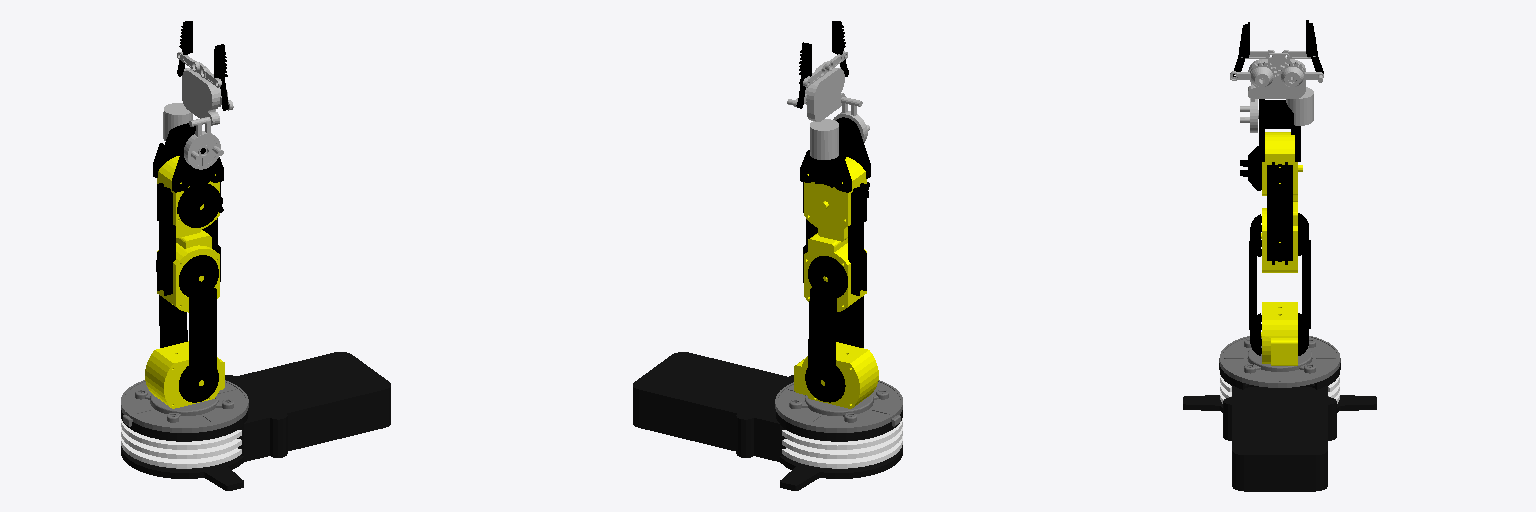
URDF robot description (robotarm_individual):
<?xml version="1.0" encoding="utf-8"?>
<!-- This URDF was automatically created by SolidWorks to URDF Exporter! Originally created by [author] ([email redacted]) 
     Commit Version: 1.5.1-0-g916b5db  Build Version: 1.5.7152.31018
     For more information, please see http://wiki.ros.org/sw_urdf_exporter -->
<robot
  name="robotarm_individual">
  <link
    name="base_link">
    <visual>
      <origin
        xyz="0 0 0"
        rpy="0 0 0" />
      <geometry>
        <mesh
          filename="package://robotarm_individual/meshes/base_link.STL" />
      </geometry>
      <material
        name="">
        <color
          rgba="0.101960784313725 0.101960784313725 0.101960784313725 1" />
      </material>
    </visual>
    <collision>
      <origin
        xyz="0 0 0"
        rpy="0 0 0" />
      <geometry>
        <mesh
          filename="package://robotarm_individual/meshes/base_link.STL" />
      </geometry>
    </collision>
  </link>
  <link
    name="JT1_Link">
    <inertial>
      <origin
        xyz="-0.00104632874122108 -0.00181223126275569 0.020277621706242"
        rpy="0 0 0" />
      <mass
        value="0.053202746550961" />
      <inertia
        ixx="9.60767382888992E-06"
        ixy="-5.70329361330024E-07"
        ixz="-6.01961156139681E-07"
        iyy="2.00245729906274E-05"
        iyz="-3.85205314489603E-08"
        izz="1.69006019714302E-05" />
    </inertial>
    <visual>
      <origin
        xyz="0 0 0"
        rpy="0 0 0" />
      <geometry>
        <mesh
          filename="package://robotarm_individual/meshes/JT1_Link.STL" />
      </geometry>
      <material
        name="">
        <color
          rgba="1 1 0 1" />
      </material>
    </visual>
    <collision>
      <origin
        xyz="0 0 0"
        rpy="0 0 0" />
      <geometry>
        <mesh
          filename="package://robotarm_individual/meshes/JT1_Link.STL" />
      </geometry>
    </collision>
  </link>
  <joint
    name="jt1_joint"
    type="revolute">
    <origin
      xyz="0 0 0.0128"
      rpy="0 0 -3.1416" />
    <parent
      link="base_link" />
    <child
      link="JT1_Link" />
    <axis
      xyz="0 0 1" />
    <limit
      lower="-2.22"
      upper="2.22"
      effort="0"
      velocity="0.1" />
  </joint>
  <link
    name="JT2_Link">
    <inertial>
      <origin
        xyz="0.0449913406932128 -0.000200000012511141 -0.000624940011745648"
        rpy="0 0 0" />
      <mass
        value="0.0206939188351067" />
      <inertia
        ixx="1.44222723848835E-06"
        ixy="-4.50727895979504E-14"
        ixz="6.69205196662212E-09"
        iyy="3.14896487489955E-06"
        iyz="-3.28893078849756E-12"
        izz="1.9239155310835E-06" />
    </inertial>
    <visual>
      <origin
        xyz="0 0 0"
        rpy="0 0 0" />
      <geometry>
        <mesh
          filename="package://robotarm_individual/meshes/JT2_Link.STL" />
      </geometry>
      <material
        name="">
        <color
          rgba="0 0 0 1" />
      </material>
    </visual>
    <collision>
      <origin
        xyz="0 0 0"
        rpy="0 0 0" />
      <geometry>
        <mesh
          filename="package://robotarm_individual/meshes/JT2_Link.STL" />
      </geometry>
    </collision>
  </link>
  <joint
    name="jt2_joint"
    type="revolute">
    <origin
      xyz="-0.0035 0 0.0207"
      rpy="3.1416 -1.543 0" />
    <parent
      link="JT1_Link" />
    <child
      link="JT2_Link" />
    <axis
      xyz="0 1 0" />
    <limit
      lower="-1.84"
      upper="1.84"
      effort="0"
      velocity="0.1" />
  </joint>
  <link
    name="JT3_Link">
    <inertial>
      <origin
        xyz="-0.0308500000000035 -0.00181223126275568 8.91838686234436E-14"
        rpy="0 0 0" />
      <mass
        value="0.106405493101922" />
      <inertia
        ixx="1.92153476577664E-05"
        ixy="-2.16397216160851E-21"
        ixz="-1.2039223121978E-06"
        iyy="4.00491459812549E-05"
        iyz="-2.01955263024075E-22"
        izz="3.38012039428738E-05" />
    </inertial>
    <visual>
      <origin
        xyz="0 0 0"
        rpy="0 0 0" />
      <geometry>
        <mesh
          filename="package://robotarm_individual/meshes/JT3_Link.STL" />
      </geometry>
      <material
        name="">
        <color
          rgba="1 1 0 1" />
      </material>
    </visual>
    <collision>
      <origin
        xyz="0 0 0"
        rpy="0 0 0" />
      <geometry>
        <mesh
          filename="package://robotarm_individual/meshes/JT3_Link.STL" />
      </geometry>
    </collision>
  </link>
  <joint
    name="jt3_joint"
    type="revolute">
    <origin
      xyz="0.089965 0 -0.0024998"
      rpy="0 -0.027779 3.1416" />
    <parent
      link="JT2_Link" />
    <child
      link="JT3_Link" />
    <axis
      xyz="0 1 0" />
    <limit
      lower="-2.63"
      upper="2.63"
      effort="0"
      velocity="0.1" />
  </joint>
  <link
    name="JT4_Link">
    <inertial>
      <origin
        xyz="0.0229033891580146 0.00570817955080329 0.000739218753686311"
        rpy="0 0 0" />
      <mass
        value="0.0327893218493341" />
      <inertia
        ixx="5.57203298390536E-06"
        ixy="-1.49779316858189E-06"
        ixz="2.89575645885117E-06"
        iyy="1.14877025504296E-05"
        iyz="9.078817865047E-07"
        izz="8.31508522668882E-06" />
    </inertial>
    <visual>
      <origin
        xyz="0 0 0"
        rpy="0 0 0" />
      <geometry>
        <mesh
          filename="package://robotarm_individual/meshes/JT4_Link.STL" />
      </geometry>
      <material
        name="">
        <color
          rgba="0.752941176470588 0.752941176470588 0.752941176470588 1" />
      </material>
    </visual>
    <collision>
      <origin
        xyz="0 0 0"
        rpy="0 0 0" />
      <geometry>
        <mesh
          filename="package://robotarm_individual/meshes/JT4_Link.STL" />
      </geometry>
    </collision>
  </link>
  <joint
    name="jt4_joint"
    type="revolute">
    <origin
      xyz="-0.11088 0 0"
      rpy="-1.5708 0.016025 -3.1416" />
    <parent
      link="JT3_Link" />
    <child
      link="JT4_Link" />
    <axis
      xyz="0 0 1" />
    <limit
      lower="-1"
      upper="1"
      effort="0"
      velocity="0.1" />
  </joint>
  <link
    name="JT5_Link">
    <inertial>
      <origin
        xyz="6.8576E-05 0.0078713 -0.0064255"
        rpy="0 0 0" />
      <mass
        value="0.0011193" />
      <inertia
        ixx="1.9918E-07"
        ixy="3.9656E-10"
        ixz="-1.4972E-09"
        iyy="1.8743E-07"
        iyz="3.9031E-08"
        izz="1.8659E-08" />
    </inertial>
    <visual>
      <origin
        xyz="0 0 0"
        rpy="0 0 0" />
      <geometry>
        <mesh
          filename="package://robotarm_individual/meshes/JT5_Link.STL" />
      </geometry>
      <material
        name="">
        <color
          rgba="0 0 0 1" />
      </material>
    </visual>
    <collision>
      <origin
        xyz="0 0 0"
        rpy="0 0 0" />
      <geometry>
        <mesh
          filename="package://robotarm_individual/meshes/JT5_Link.STL" />
      </geometry>
    </collision>
  </link>
  <joint
    name="jt5_joint"
    type="prismatic">
    <origin
      xyz="0.061928 0.01175 -0.036896"
      rpy="1.5708 0 -1.5708" />
    <parent
      link="JT4_Link" />
    <child
      link="JT5_Link" />
    <axis
      xyz="0 0.67427 -0.73849" />
    <limit
      lower="0"
      upper="0.033"
      effort="0"
      velocity="0.1" />
  </joint>
  <link
    name="JT5_Link_Mimic">
    <inertial>
      <origin
        xyz="6.8858E-05 0.021151 -0.020977"
        rpy="0 0 0" />
      <mass
        value="0.0011188" />
      <inertia
        ixx="1.9894E-07"
        ixy="3.9833E-10"
        ixz="-1.5039E-09"
        iyy="1.872E-07"
        iyz="3.897E-08"
        izz="1.8643E-08" />
    </inertial>
    <visual>
      <origin
        xyz="0 0 0"
        rpy="0 0 0" />
      <geometry>
        <mesh
          filename="package://robotarm_individual/meshes/JT5_Link_Mimic.STL" />
      </geometry>
      <material
        name="">
        <color
          rgba="0 0 0 1" />
      </material>
    </visual>
    <collision>
      <origin
        xyz="0 0 0"
        rpy="0 0 0" />
      <geometry>
        <mesh
          filename="package://robotarm_individual/meshes/JT5_Link_Mimic.STL" />
      </geometry>
    </collision>
  </link>
  <joint
    name="JT5_Joint_Mimic"
    type="prismatic">
    <origin
      xyz="0.04827855422954 0.0112500000000006 0.0471610703885282"
      rpy="-1.5707963267949 0 1.57079632679489" />
    <parent
      link="JT4_Link" />
    <child
      link="JT5_Link_Mimic" />
    <axis
      xyz="0 0.674269364021332 -0.738485493928126" />
    <limit
      lower="0"
      upper="0"
      effort="0"
      velocity="0" />
    <mimic
      joint="jt5_joint"
      multiplier="1"
      offset="0" />
  </joint>
  <link
    name="JT4_Link_Mimic">
    <inertial>
      <origin
        xyz="-4.77717961645248E-05 0.0099456000703949 -3.11959310606014E-08"
        rpy="0 0 0" />
      <mass
        value="0.00618464375958261" />
      <inertia
        ixx="5.86810430367686E-07"
        ixy="6.32754915726527E-10"
        ixz="2.12560510161703E-12"
        iyy="1.11122672856724E-06"
        iyz="8.72529608292501E-13"
        izz="6.35988604119652E-07" />
    </inertial>
    <visual>
      <origin
        xyz="0 0 0"
        rpy="0 0 0" />
      <geometry>
        <mesh
          filename="package://robotarm_individual/meshes/JT4_Link_Mimic.STL" />
      </geometry>
      <material
        name="">
        <color
          rgba="0 0 0 1" />
      </material>
    </visual>
    <collision>
      <origin
        xyz="0 0 0"
        rpy="0 0 0" />
      <geometry>
        <mesh
          filename="package://robotarm_individual/meshes/JT4_Link_Mimic.STL" />
      </geometry>
    </collision>
  </link>
  <joint
    name="JT4_Joint_Mimic"
    type="revolute">
    <origin
      xyz="-0.0617000000000014 0.00829999999999955 0"
      rpy="0 1.5707963267949 0" />
    <parent
      link="JT3_Link" />
    <child
      link="JT4_Link_Mimic" />
    <axis
      xyz="0 1 0" />
    <limit
      lower="0"
      upper="0"
      effort="0"
      velocity="0" />
    <mimic
      joint="jt4_joint"
      multiplier="1"
      offset="0" />
  </joint>
  <link
    name="JT3_Link_Fixed">
    <inertial>
      <origin
        xyz="-0.034585711593617 -0.0172997753775898 0.000821501839265839"
        rpy="0 0 0" />
      <mass
        value="0.0248183851011529" />
      <inertia
        ixx="2.01038499500052E-06"
        ixy="-1.26681646516093E-09"
        ixz="1.26109052435355E-07"
        iyy="1.05120933767312E-05"
        iyz="-1.58130796051854E-12"
        izz="1.10576189937727E-05" />
    </inertial>
    <visual>
      <origin
        xyz="0 0 0"
        rpy="0 0 0" />
      <geometry>
        <mesh
          filename="package://robotarm_individual/meshes/JT3_Link_Fixed.STL" />
      </geometry>
      <material
        name="">
        <color
          rgba="0 0 0 1" />
      </material>
    </visual>
    <collision>
      <origin
        xyz="0 0 0"
        rpy="0 0 0" />
      <geometry>
        <mesh
          filename="package://robotarm_individual/meshes/JT3_Link_Fixed.STL" />
      </geometry>
    </collision>
  </link>
  <joint
    name="JT3_Joint_Fixed"
    type="fixed">
    <origin
      xyz="-0.0308500000000981 0 -0.0173000000000445"
      rpy="-1.5707963267949 0 0" />
    <parent
      link="JT3_Link" />
    <child
      link="JT3_Link_Fixed" />
    <axis
      xyz="0 0 0" />
  </joint>
  <link
    name="JT1_Link_Black">
    <inertial>
      <origin
        xyz="-0.000273001752845465 0.00282934211006141 6.67920017675659E-08"
        rpy="0 0 0" />
      <mass
        value="0.0319850146060535" />
      <inertia
        ixx="1.46418390433534E-05"
        ixy="-2.78486111301293E-09"
        ixz="-1.3070112921446E-07"
        iyy="2.9029692347561E-05"
        iyz="-2.70656010153181E-09"
        izz="1.45805435355154E-05" />
    </inertial>
    <visual>
      <origin
        xyz="0 0 0"
        rpy="0 0 0" />
      <geometry>
        <mesh
          filename="package://robotarm_individual/meshes/JT1_Link_Black.STL" />
      </geometry>
      <material
        name="">
        <color
          rgba="0.501960784313725 0.501960784313725 0.501960784313725 1" />
      </material>
    </visual>
    <collision>
      <origin
        xyz="0 0 0"
        rpy="0 0 0" />
      <geometry>
        <mesh
          filename="package://robotarm_individual/meshes/JT1_Link_Black.STL" />
      </geometry>
    </collision>
  </link>
  <joint
    name="J1_Joint_Black"
    type="fixed">
    <origin
      xyz="0 0 -0.0063"
      rpy="1.5707963267949 0 -3.14159265358979" />
    <parent
      link="JT1_Link" />
    <child
      link="JT1_Link_Black" />
    <axis
      xyz="0 0 0" />
  </joint>
  <link
    name="Base_Link_Yellow">
    <inertial>
      <origin
        xyz="0 0 0"
        rpy="0 0 0" />
      <mass
        value="0" />
      <inertia
        ixx="0"
        ixy="0"
        ixz="0"
        iyy="0"
        iyz="0"
        izz="0" />
    </inertial>
    <visual>
      <origin
        xyz="0 0 0"
        rpy="0 0 0" />
      <geometry>
        <mesh
          filename="package://robotarm_individual/meshes/Base_Link_Yellow.STL" />
      </geometry>
      <material
        name="">
        <color
          rgba="1 1 1 1" />
      </material>
    </visual>
    <collision>
      <origin
        xyz="0 0 0"
        rpy="0 0 0" />
      <geometry>
        <mesh
          filename="package://robotarm_individual/meshes/Base_Link_Yellow.STL" />
      </geometry>
    </collision>
  </link>
  <joint
    name="Base_Joint_Fixed"
    type="fixed">
    <origin
      xyz="0 0 -0.028"
      rpy="-1.5707963267949 0 -1.5707963267949" />
    <parent
      link="base_link" />
    <child
      link="Base_Link_Yellow" />
    <axis
      xyz="0 0 0" />
  </joint>
</robot>

--- Render facts (derived) ---
Views: 3 orthographic renders of the robot side by side, from view 1: azimuth 30°, elevation 25°; view 2: azimuth 150°, elevation 25°; view 3: azimuth 270°, elevation 25°.
Model robotarm_individual with 11 links and 10 joints (5 revolute, 2 prismatic, 3 fixed), rooted at base_link, posed every joint at zero.
Links seen in each view (by area): view 1: base_link, JT2_Link, JT1_Link_Black, JT3_Link_Fixed, JT4_Link, Base_Link_Yellow, JT3_Link, JT1_Link, JT4_Link_Mimic, JT5_Link; view 2: base_link, JT2_Link, JT3_Link_Fixed, JT3_Link, JT1_Link_Black, JT4_Link, Base_Link_Yellow, JT1_Link, JT5_Link_Mimic; view 3: base_link, JT4_Link, JT3_Link_Fixed, JT1_Link_Black, JT2_Link, JT3_Link, JT1_Link, JT4_Link_Mimic.
Link boxes in pixels (bbox=[...]): base_link: bbox=[121, 352, 390, 490]; JT2_Link: bbox=[156, 255, 218, 402]; JT1_Link_Black: bbox=[121, 380, 248, 432]; JT3_Link_Fixed: bbox=[153, 123, 223, 295]; JT4_Link: bbox=[163, 52, 233, 169]; Base_Link_Yellow: bbox=[121, 419, 241, 468]; JT3_Link: bbox=[157, 156, 219, 312]; JT1_Link: bbox=[145, 341, 224, 408]; JT4_Link_Mimic: bbox=[177, 183, 223, 227]; JT5_Link: bbox=[214, 44, 228, 110]; base_link: bbox=[633, 352, 902, 490]; JT2_Link: bbox=[805, 256, 863, 402]; JT3_Link_Fixed: bbox=[800, 117, 870, 295]; JT3_Link: bbox=[804, 157, 866, 311]; JT1_Link_Black: bbox=[775, 380, 902, 432]; JT4_Link: bbox=[787, 51, 869, 159]; Base_Link_Yellow: bbox=[782, 418, 902, 468]; JT1_Link: bbox=[794, 342, 878, 408]; JT5_Link_Mimic: bbox=[796, 42, 811, 108]; base_link: bbox=[1183, 363, 1376, 491]; JT4_Link: bbox=[1230, 50, 1323, 132]; JT3_Link_Fixed: bbox=[1259, 99, 1300, 264]; JT1_Link_Black: bbox=[1219, 336, 1340, 387]; JT2_Link: bbox=[1249, 213, 1310, 355]; JT3_Link: bbox=[1261, 132, 1302, 272]; JT1_Link: bbox=[1261, 302, 1297, 365]; JT4_Link_Mimic: bbox=[1240, 146, 1261, 190].
Bounding box of the posed robot: 0.2206 × 0.16 × 0.357 m (x, y, z).
11 mesh visuals loaded from 11 distinct referenced files (11 binary STL).